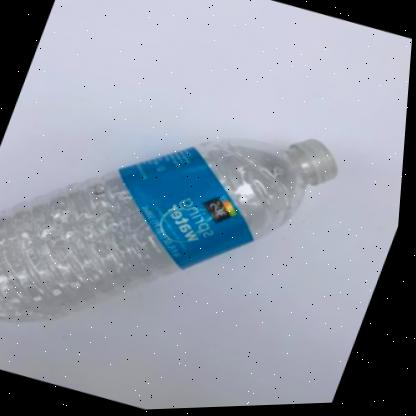Plastic: (0, 142, 339, 323)
